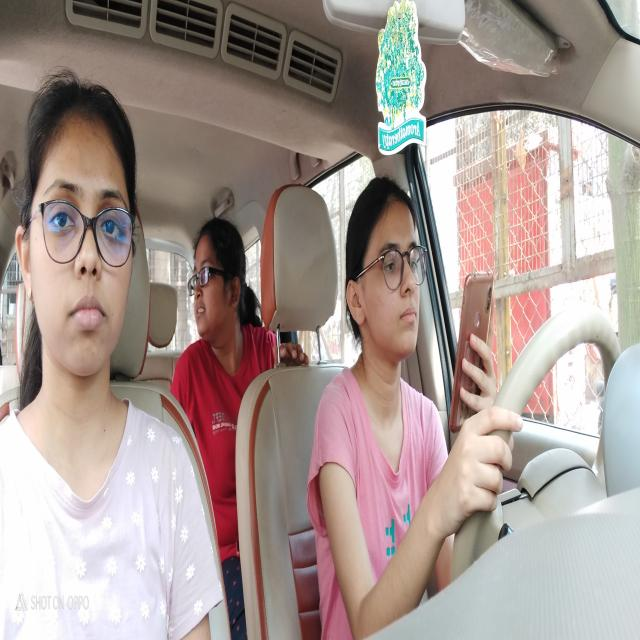mobile: (452, 266, 496, 435)
person: (14, 72, 146, 404), (342, 170, 430, 396), (186, 209, 252, 350)
